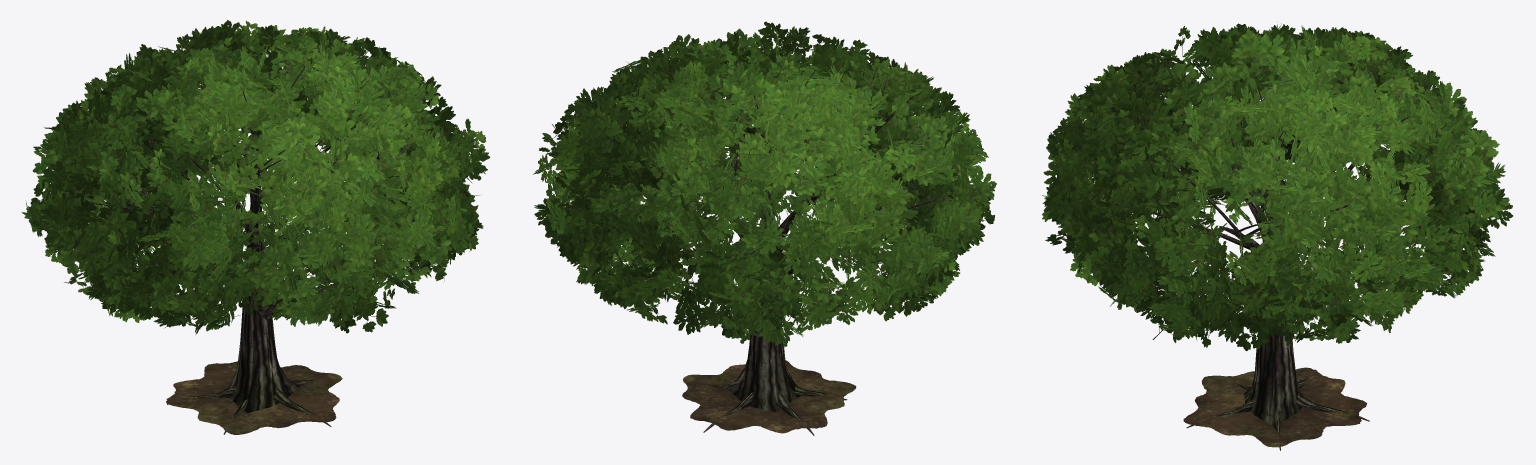
Rendered from oak-dense-mid.glb.
3 views of the same model, side by side, from view 1: azimuth 30°, elevation 25°; view 2: azimuth 150°, elevation 25°; view 3: azimuth 270°, elevation 25° (orthographic). The views are drawn at different scales.
Visible parts, largest first — view 1: oak_dense_mid; view 2: oak_dense_mid; view 3: oak_dense_mid.
Part boxes in pixels (x1=…): oak_dense_mid: x1=21, y1=20, x2=490, y2=434; oak_dense_mid: x1=533, y1=21, x2=996, y2=435; oak_dense_mid: x1=1042, y1=23, x2=1513, y2=450.
Bounding box in the file's own units: 12.75 × 10.37 × 12.41.
Materials: 1 (1 with a texture image).
